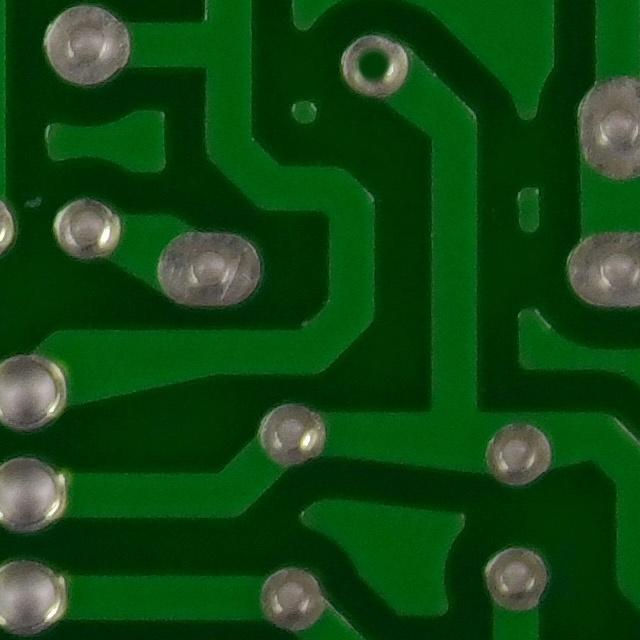missing_hole: (339, 33, 411, 94)
